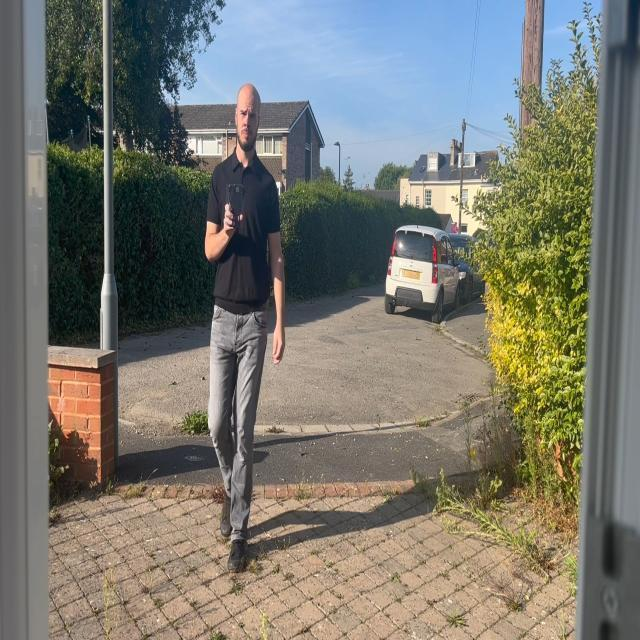lens: (236, 188, 239, 194)
phone: (226, 184, 243, 228)
